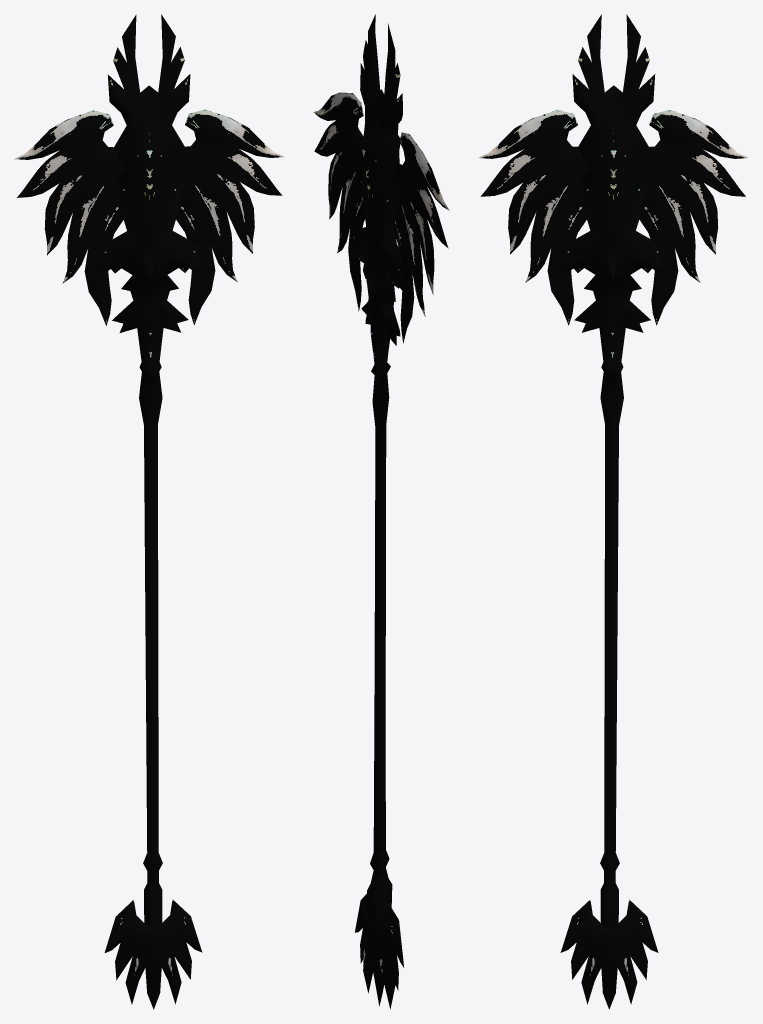
File: 17pfz_4e952dcf.glb
The picture shows the model from 3 angles, left to right: view 1: azimuth 90°, elevation 25°; view 2: azimuth 210°, elevation 25°; view 3: azimuth 270°, elevation 25°; orthographic projection.
Bounding box in the file's own units: 0.1793 × 4.33 × 1.06.
Materials: 1 (1 with a texture image).
